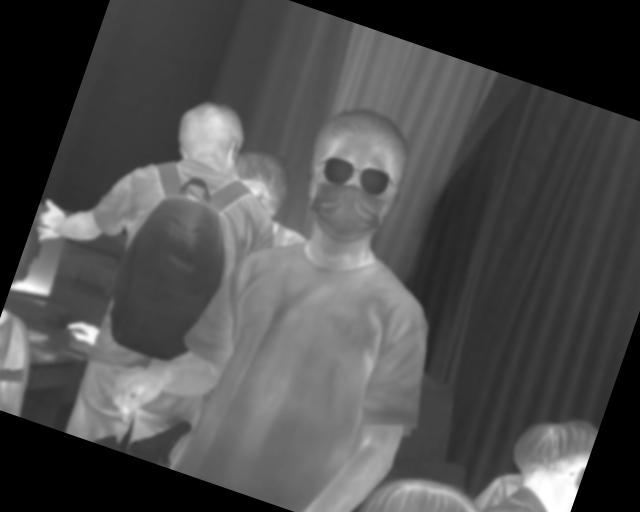face: (286, 96, 420, 256)
